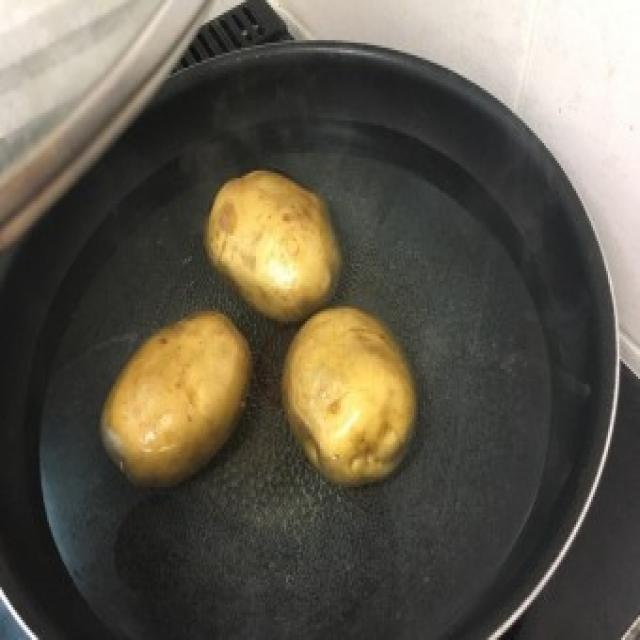potato: (95, 306, 256, 492), (281, 301, 421, 494), (202, 160, 348, 328)
